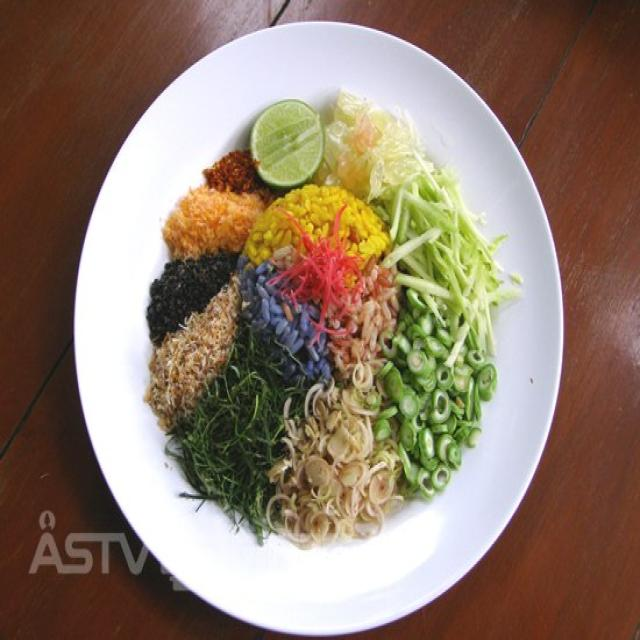carb: (259, 186, 391, 270)
rice salad: (140, 90, 524, 545)
vegetable: (396, 180, 501, 494), (200, 369, 279, 522)
